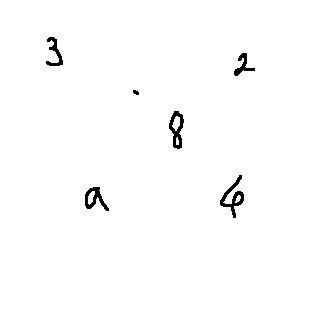.: (128, 80, 145, 102)
2: (229, 44, 262, 84)
3: (40, 34, 79, 85)
4: (212, 166, 254, 222)
8: (166, 107, 194, 152)
